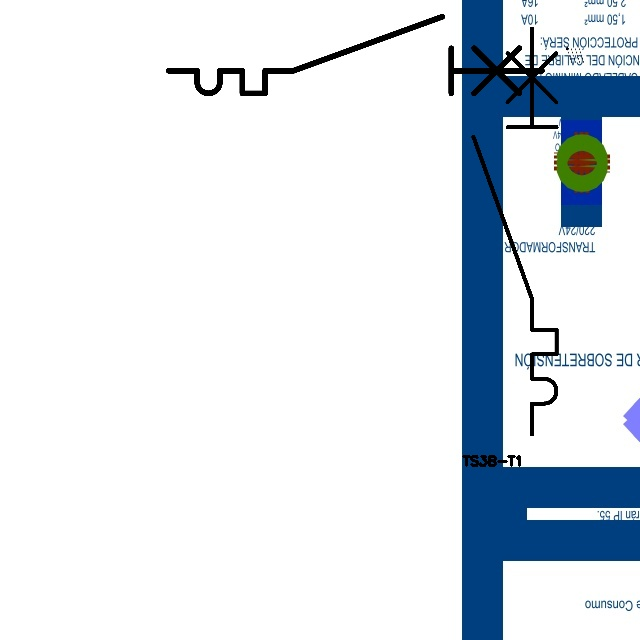interruptor_termomagnetico: (463, 18, 567, 445), (159, 7, 552, 103)
